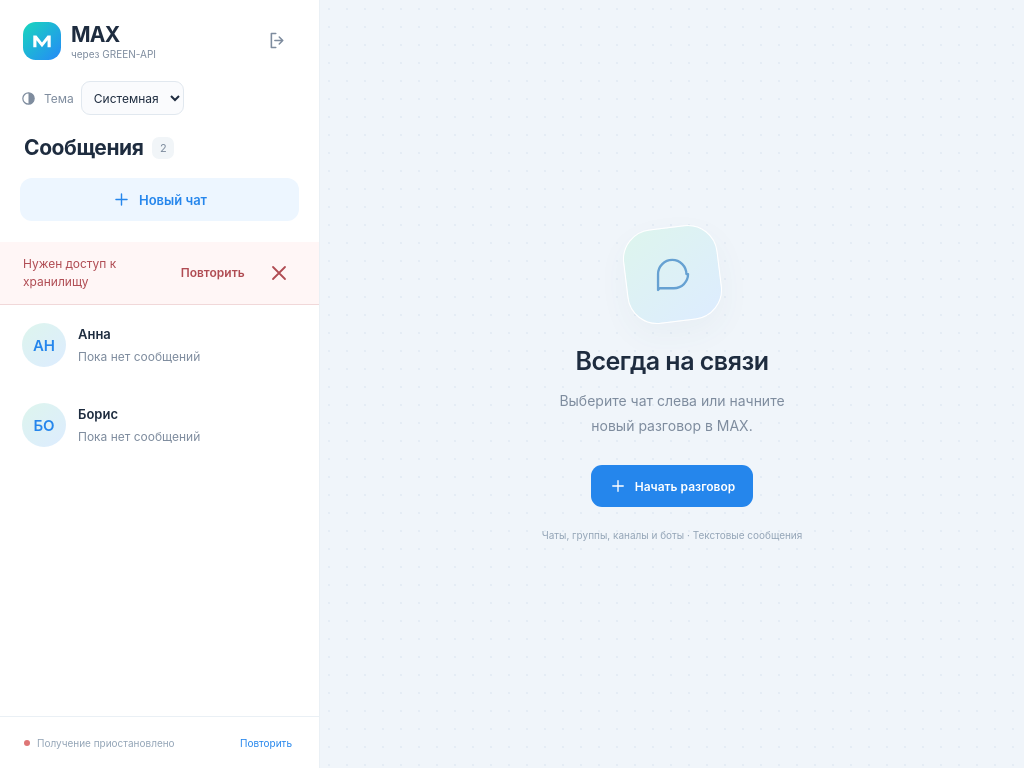
Test: history and connection state › collapses a storage warning without losing recovery controls, and expands it again
What coordinates should you click on to do the following:
click the button "АН Анна Пока нет сообщений"
I would click on:
 (44, 345)
Its box is [10, 305, 309, 385].
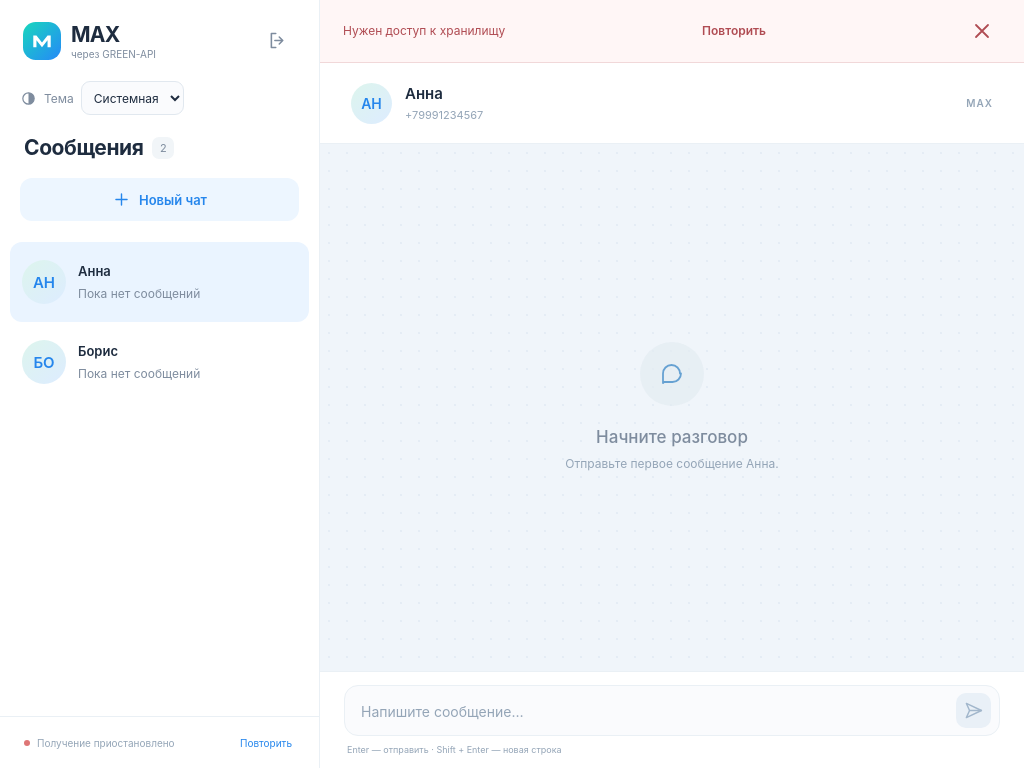
What coordinates should you click on to do the following:
click the button named "Свернуть уведомление"
I would click on:
 (982, 31)
Its box is [963, 12, 1001, 50].
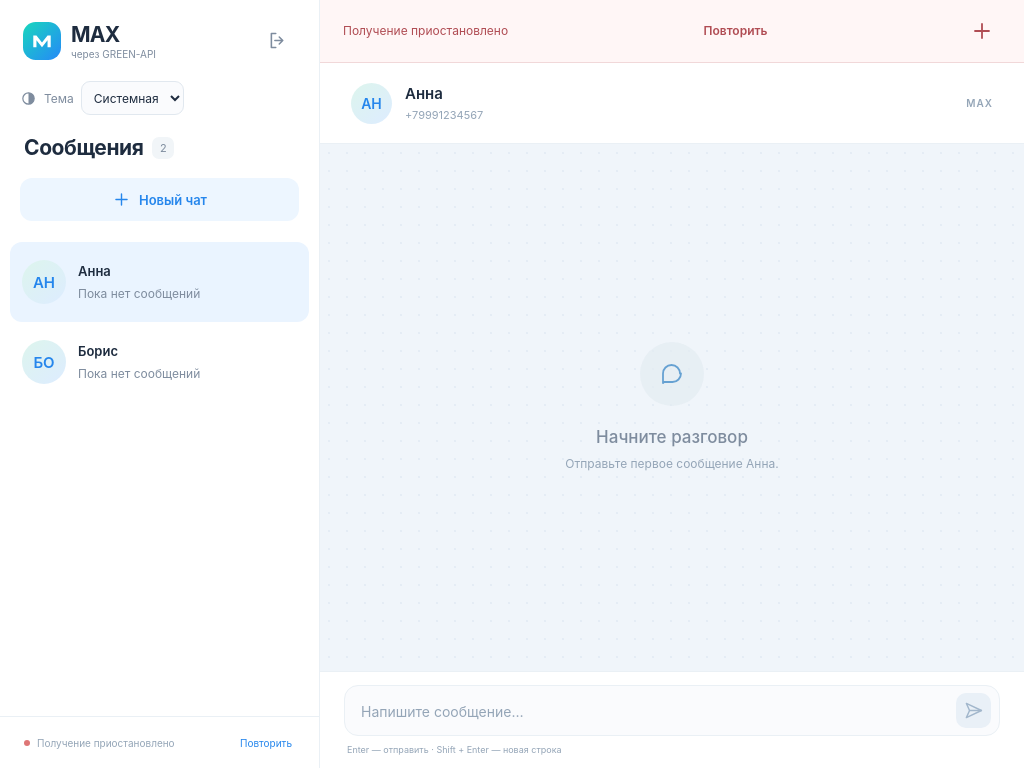
Expected: the element showing "Получение приостановлено Повторить" is shown, [320, 0, 1023, 63]
What coordinates should you click on to do the following:
click the button named "Развернуть уведомление"
I would click on:
 (982, 31)
Its box is [963, 12, 1001, 50].
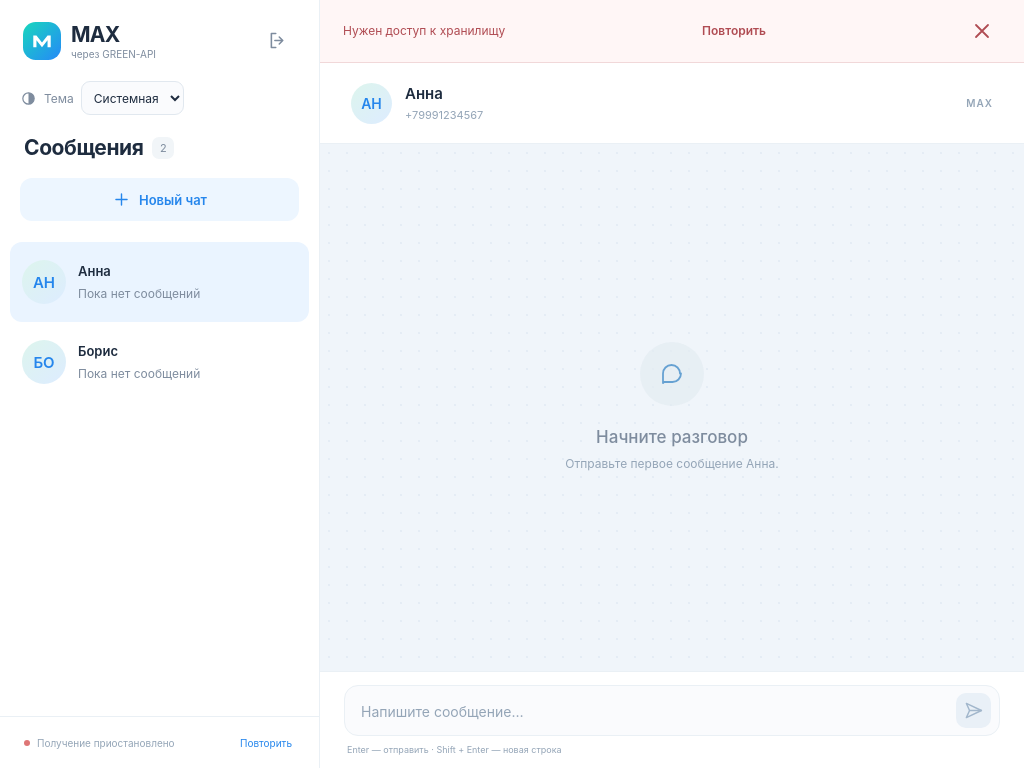
Expected: the message shows "Нужен доступ к хранилищу", [343, 23, 505, 38]
